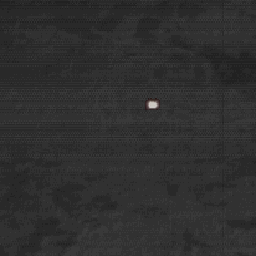Target: (145, 99, 161, 110)
